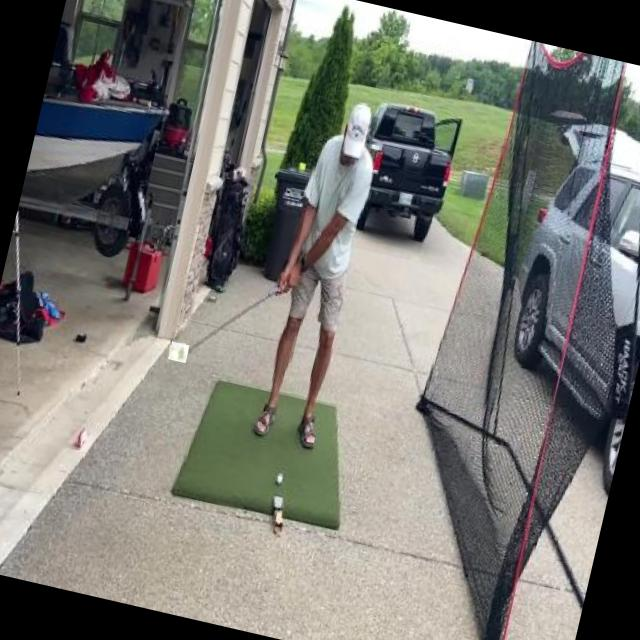club head: (167, 341, 189, 363)
